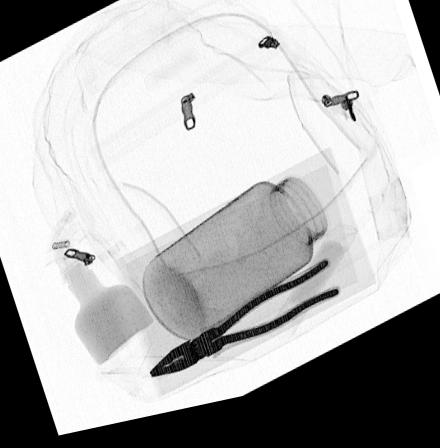Pliers: (146, 270, 341, 385)
